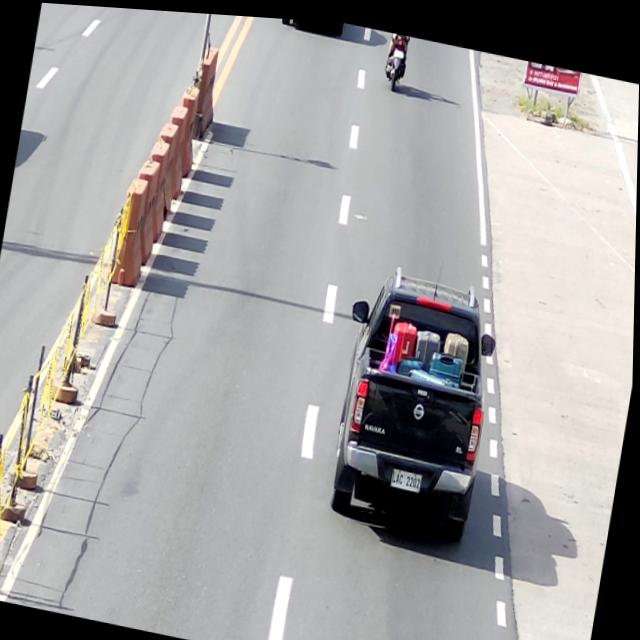Car: (321, 251, 508, 538)
License-Plate: (391, 459, 425, 488)
Motorcycle: (381, 27, 410, 88)
